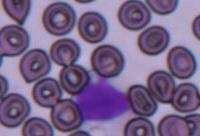L: (74, 76, 132, 128)
